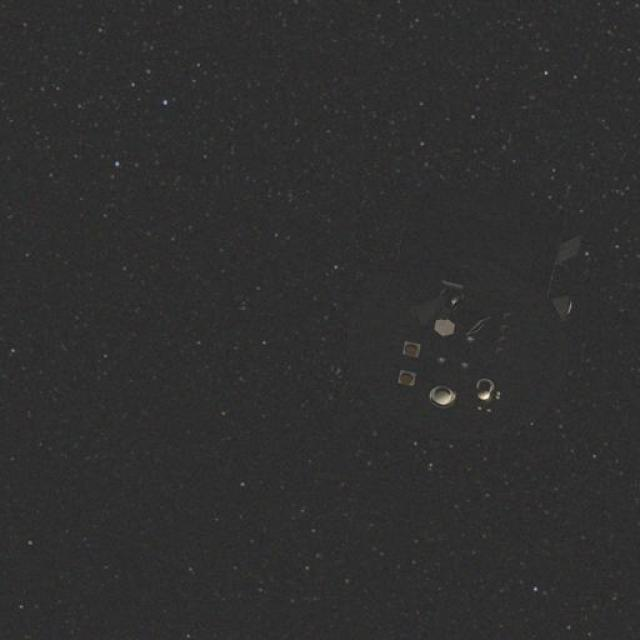proba_3_ocs: (342, 174, 584, 431)
